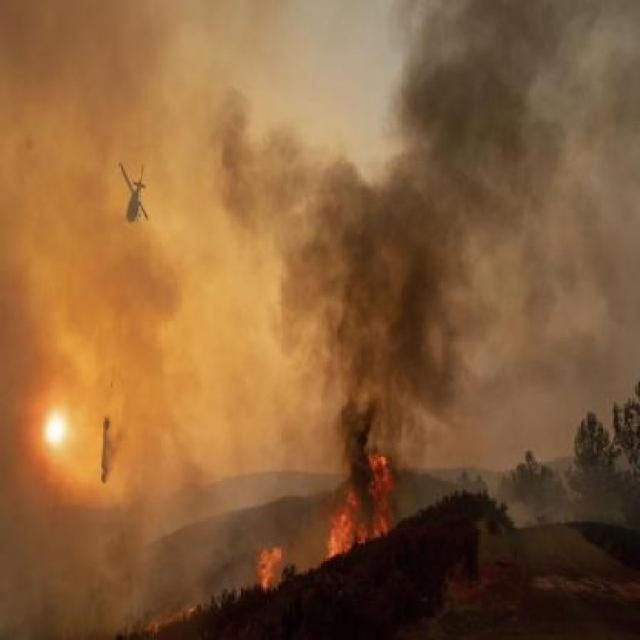Fire: (308, 428, 408, 552), (228, 535, 288, 600)
Smoke: (220, 83, 640, 486), (8, 0, 242, 602), (361, 0, 640, 109)
